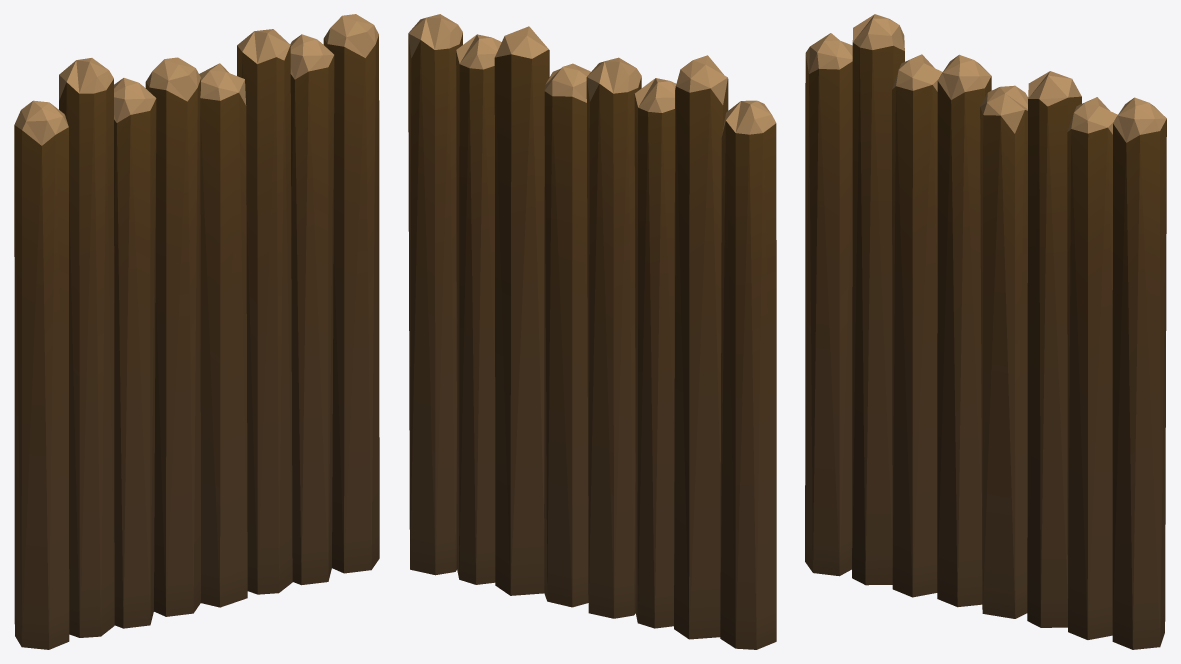
The model's file is FenceBig_01.fbx.
3 renders of one model, left to right at view 1: azimuth 30°, elevation 25°; view 2: azimuth 150°, elevation 25°; view 3: azimuth 330°, elevation 25°, orthographic.
Parts seen in each view (by area): view 1: FenceBig_01; view 2: FenceBig_01; view 3: FenceBig_01.
Part boxes in pixels (<box>): FenceBig_01: <box>14,14,379,649</box>; FenceBig_01: <box>408,14,776,649</box>; FenceBig_01: <box>805,14,1166,649</box>.
Size of the model in its own units: 2.26 by 3.41 by 0.321.
